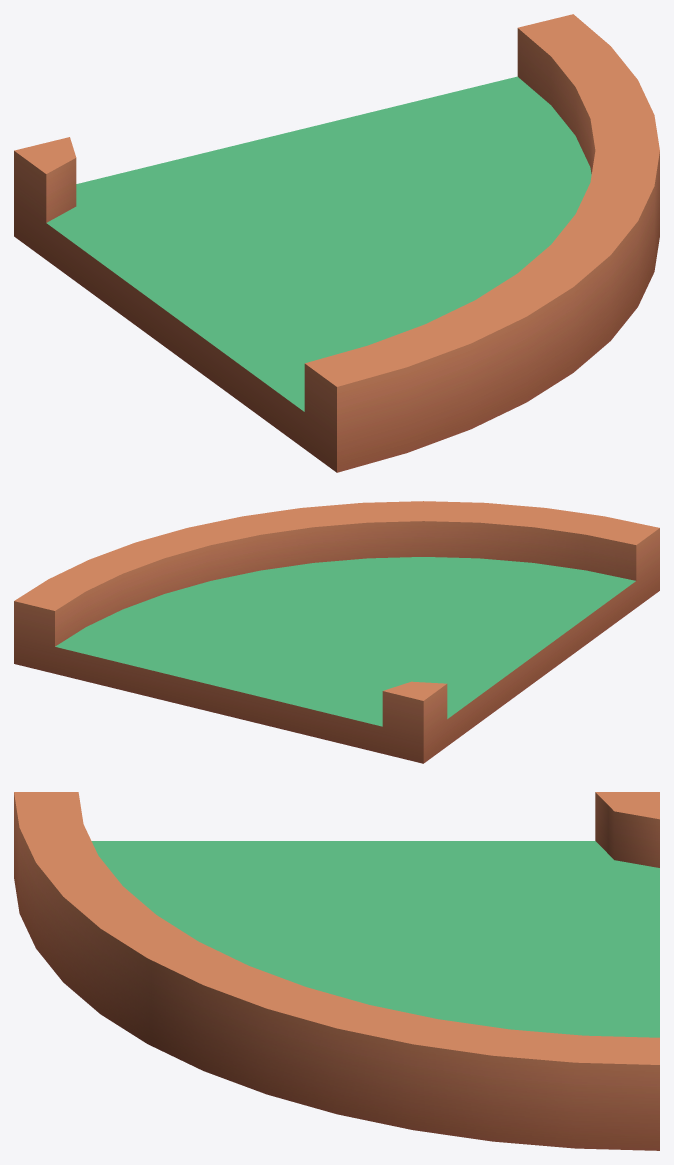
File: round-corner-a.glb
3 views of the same model, one above another, from view 1: azimuth 30°, elevation 25°; view 2: azimuth 150°, elevation 25°; view 3: azimuth 270°, elevation 25° (orthographic). The views are drawn at different scales.
Parts seen in each view (by area): view 1: round-corner-a; view 2: round-corner-a; view 3: round-corner-a.
Part boxes in pixels (bbox=[...]): round-corner-a: bbox=[14, 14, 659, 472]; round-corner-a: bbox=[14, 501, 659, 763]; round-corner-a: bbox=[14, 792, 659, 1150].
Bounding box in the file's own units: 0.9999 × 0.1466 × 0.9999.
Materials: 1 (1 with a texture image).
